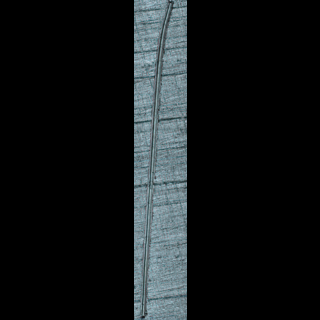d: (138, 0, 176, 319)
